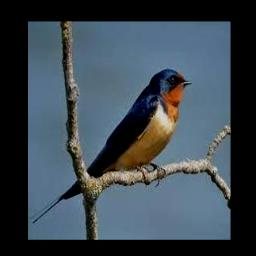Swallow: (30, 68, 192, 223)
